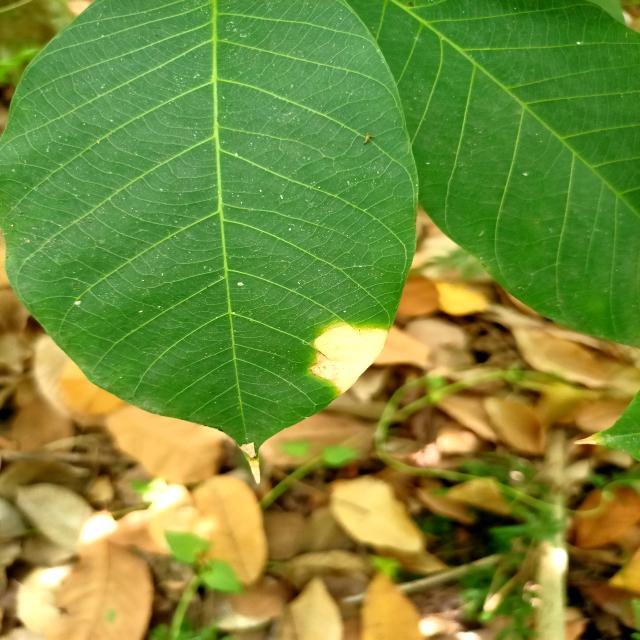Leaf-Blight: (309, 322, 388, 393), (239, 442, 262, 484)
